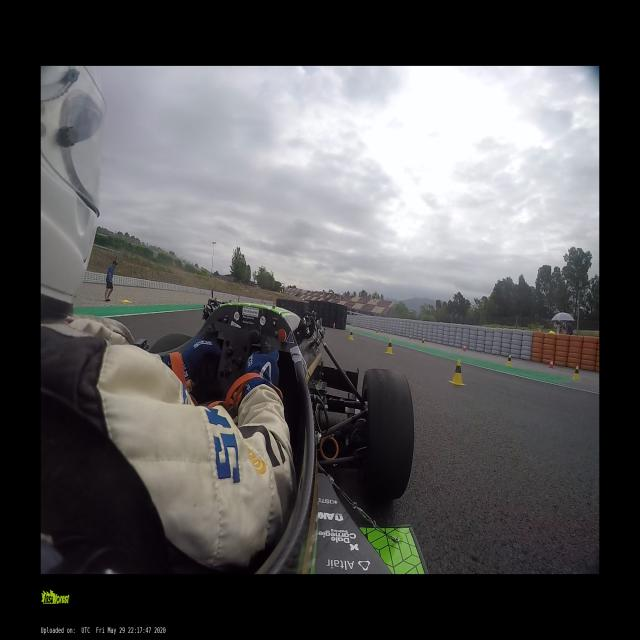orange_cone: (548, 360, 553, 368), (462, 344, 466, 352), (332, 322, 336, 329)
yellow_cone: (449, 359, 465, 385), (571, 365, 580, 381), (384, 340, 393, 356), (504, 354, 512, 368), (348, 329, 354, 340), (420, 339, 424, 347), (375, 329, 378, 335)
